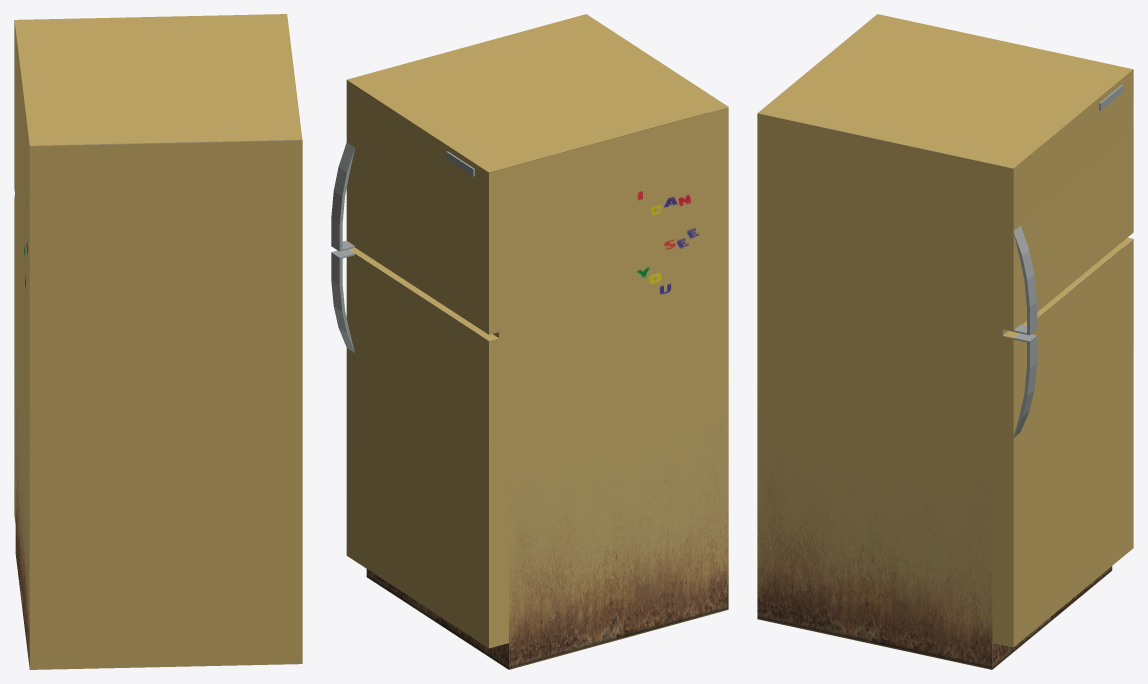
The model's file is Fridge.fbx.
3 views of the same model, side by side, from view 1: azimuth 30°, elevation 25°; view 2: azimuth 150°, elevation 25°; view 3: azimuth 270°, elevation 25° (orthographic). The views are drawn at different scales.
Parts seen in each view (by area): view 1: Cube; view 2: Cube; view 3: Cube.
Boxes of the visible parts, <box> form: Cube: <box>14,14,302,669</box>; Cube: <box>331,14,728,669</box>; Cube: <box>757,14,1133,669</box>.
Size of the model in its own units: 284 by 424 by 285.
Materials: 2 (1 with a texture image).
